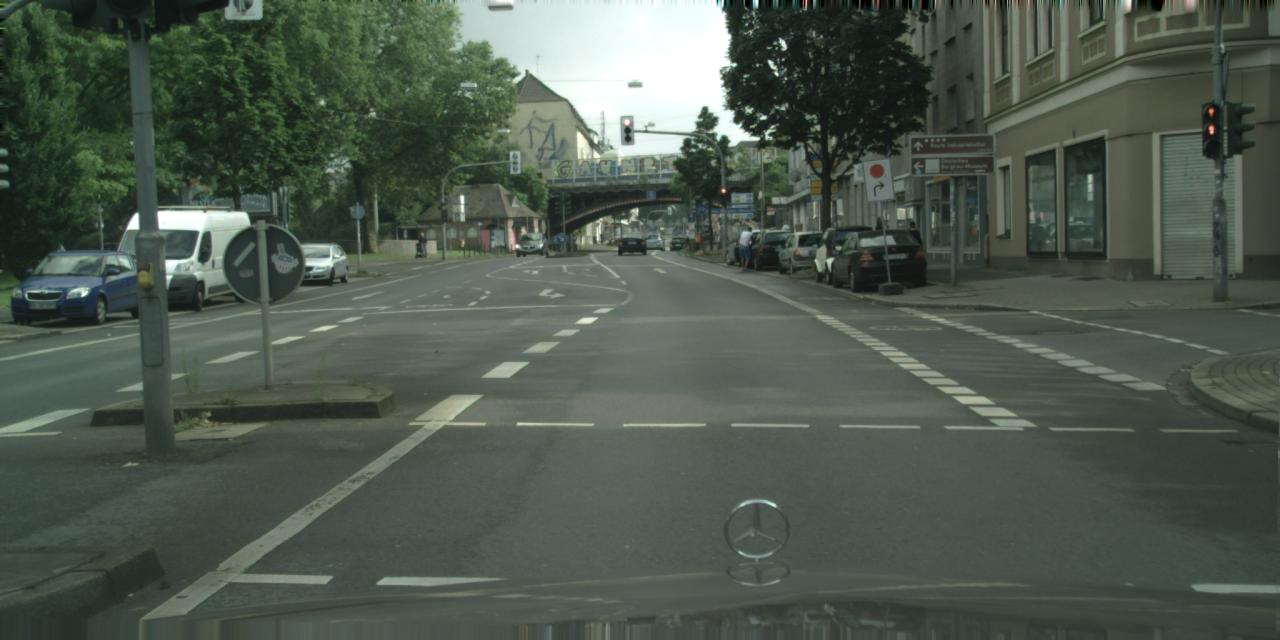ped: (904, 222, 922, 269), (736, 226, 754, 272), (873, 217, 890, 257), (416, 231, 427, 257), (793, 219, 803, 243), (780, 220, 789, 244), (599, 232, 603, 242)
